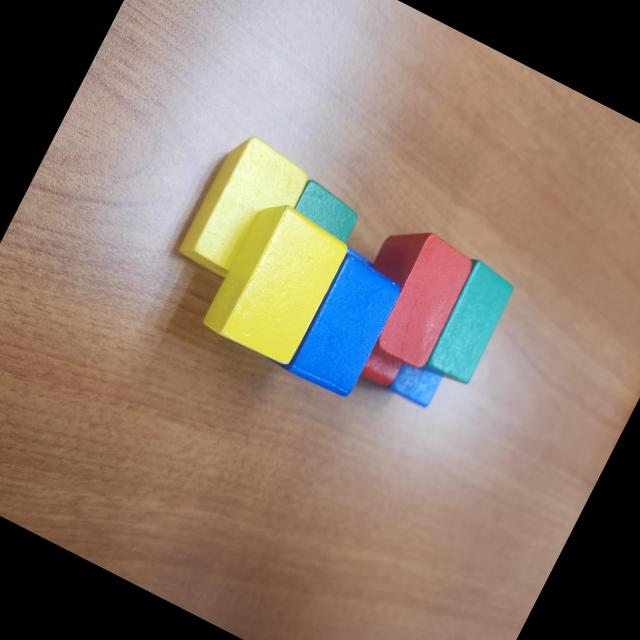blue: (264, 241, 410, 404), (384, 352, 446, 412)
green: (418, 256, 522, 391), (286, 177, 368, 244)
red: (334, 216, 478, 378), (357, 330, 412, 392)
yellow: (199, 195, 353, 368), (172, 128, 316, 292)
